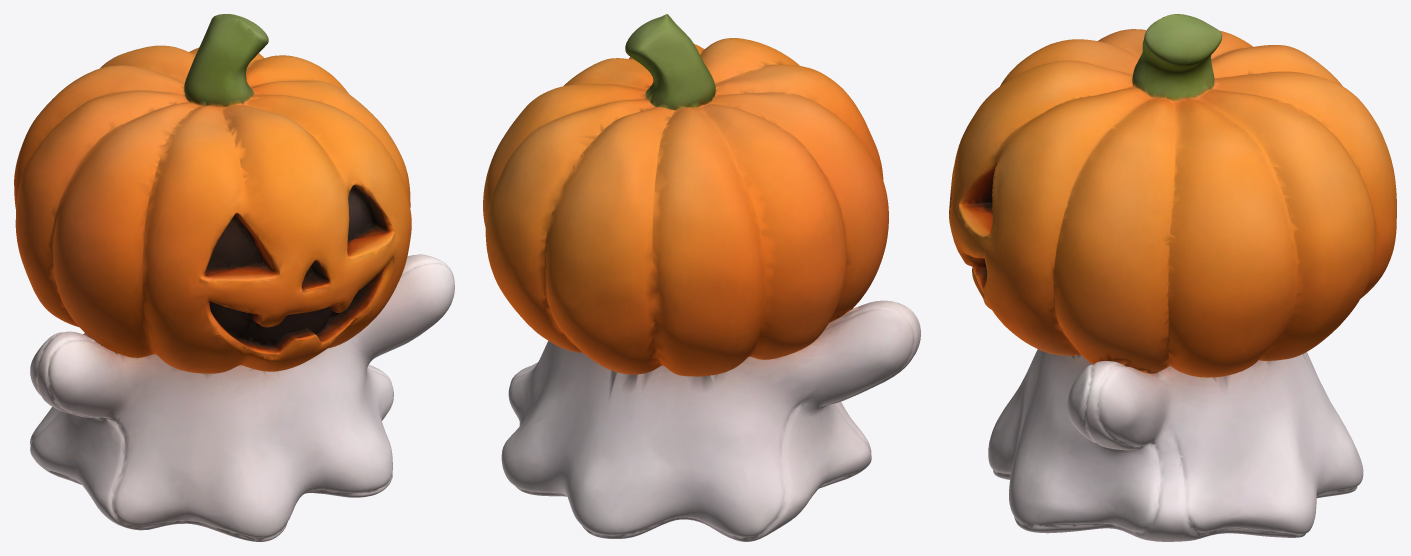
Rendered from pumpkin.glb.
3 renders of one model, left to right at view 1: azimuth 30°, elevation 25°; view 2: azimuth 150°, elevation 25°; view 3: azimuth 270°, elevation 25°, orthographic. The views are drawn at different scales.
Visible parts, largest first — view 1: tripo_node_7db9328c-d6ad-44e3-9fda-833ccb84f77f; view 2: tripo_node_7db9328c-d6ad-44e3-9fda-833ccb84f77f; view 3: tripo_node_7db9328c-d6ad-44e3-9fda-833ccb84f77f.
Part boxes in pixels (x1,y1,x2,y2): tripo_node_7db9328c-d6ad-44e3-9fda-833ccb84f77f: (14,14,454,541); tripo_node_7db9328c-d6ad-44e3-9fda-833ccb84f77f: (483,14,920,541); tripo_node_7db9328c-d6ad-44e3-9fda-833ccb84f77f: (949,14,1396,541).
Size of the model in its own units: 0.8955 by 0.9792 by 0.7992.
1 material, 1 textured.
